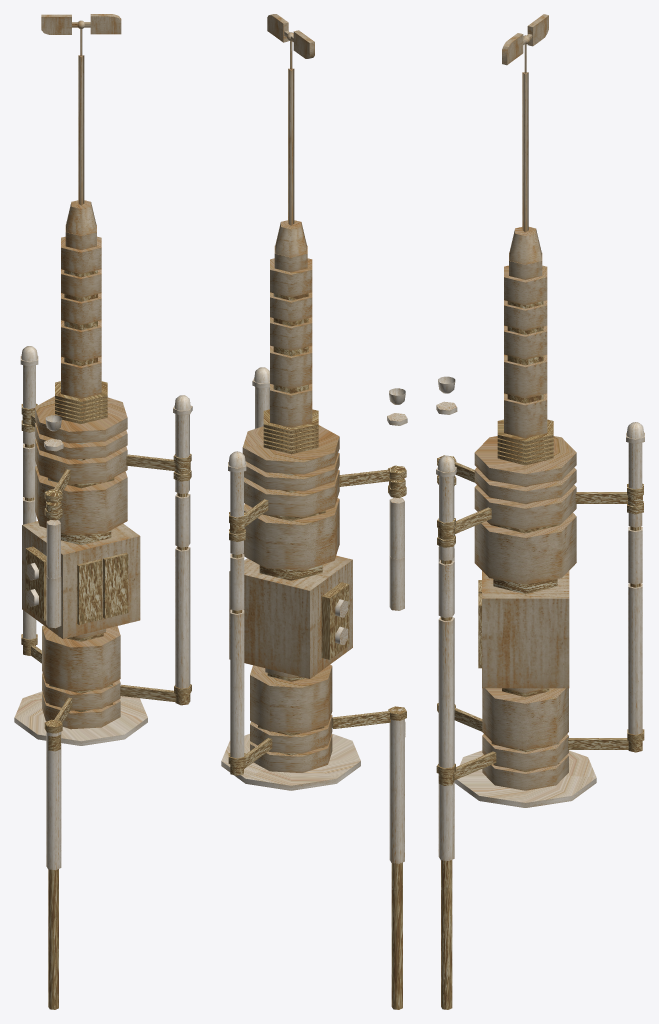
The model's file is vaporator.FBX.
3 renders of one model, left to right at view 1: azimuth 30°, elevation 25°; view 2: azimuth 150°, elevation 25°; view 3: azimuth 270°, elevation 25°, orthographic. The views are drawn at different scales.
Visible parts, largest first — view 1: Box001, Cylinder005, Cylinder009, Cylinder001, Cylinder013, Cylinder011, Cylinder068, Cylinder078, Box013, Box014, Cylinder077, Cylinder004 (+25 smaller); view 2: Box001, Cylinder009, Cylinder005, Cylinder001, Cylinder013, Cylinder011, Cylinder078, Cylinder052, Cylinder077, Cylinder012, Box015, Cylinder004 (+21 smaller); view 3: Box001, Cylinder009, Cylinder005, Cylinder001, Cylinder013, Cylinder011, Cylinder068, Cylinder052, Cylinder012, Cylinder077, Cylinder004, Cylinder002 (+21 smaller).
Part boxes in pixels (<box>): Box001: <box>22,521,140,639</box>; Cylinder005: <box>42,625,120,691</box>; Cylinder009: <box>35,466,127,535</box>; Cylinder001: <box>14,691,147,745</box>; Cylinder013: <box>35,396,127,443</box>; Cylinder011: <box>35,439,127,484</box>; Cylinder068: <box>175,546,190,688</box>; Cylinder078: <box>46,731,61,870</box>; Box013: <box>77,559,102,624</box>; Box014: <box>103,553,128,618</box>; Cylinder077: <box>48,723,58,1009</box>; Cylinder004: <box>42,673,120,710</box>; Box001: <box>229,555,352,678</box>; Cylinder009: <box>243,498,339,570</box>; Cylinder005: <box>250,664,332,733</box>; Cylinder001: <box>221,733,360,790</box>; Cylinder013: <box>242,425,339,474</box>; Cylinder011: <box>244,470,339,517</box>; Cylinder078: <box>389,708,404,863</box>; Cylinder052: <box>230,609,244,758</box>; Cylinder077: <box>391,708,402,1009</box>; Cylinder012: <box>244,453,339,491</box>; Box015: <box>321,582,349,659</box>; Cylinder004: <box>250,715,332,753</box>; Box001: <box>482,571,569,688</box>; Cylinder009: <box>474,513,576,584</box>; Cylinder005: <box>482,688,568,750</box>; Cylinder001: <box>454,750,596,807</box>; Cylinder013: <box>474,436,576,486</box>; Cylinder011: <box>474,485,576,530</box>; Cylinder068: <box>438,616,454,768</box>; Cylinder052: <box>628,583,642,734</box>; Cylinder012: <box>474,467,576,503</box>; Cylinder077: <box>441,860,452,1009</box>; Cylinder004: <box>482,734,568,770</box>; Cylinder002: <box>482,754,568,790</box>.
Size of the model in its own units: 24.7 by 154 by 28.74.
Materials: 5 (5 with a texture image).
